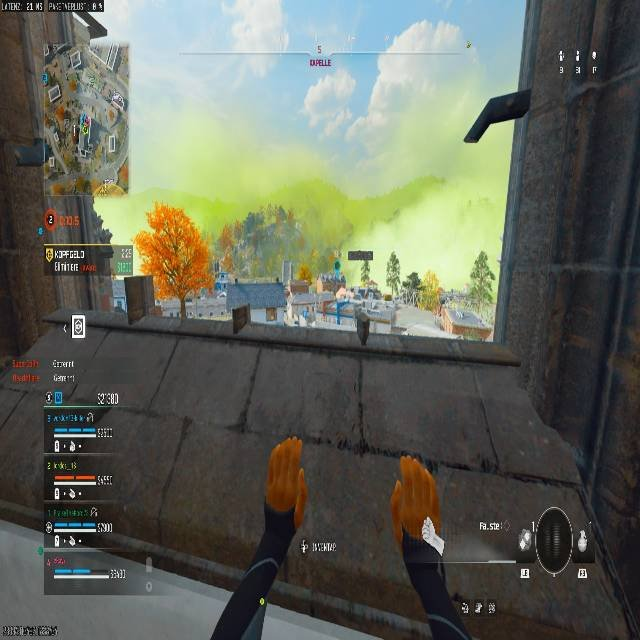player: (301, 66, 367, 162)
